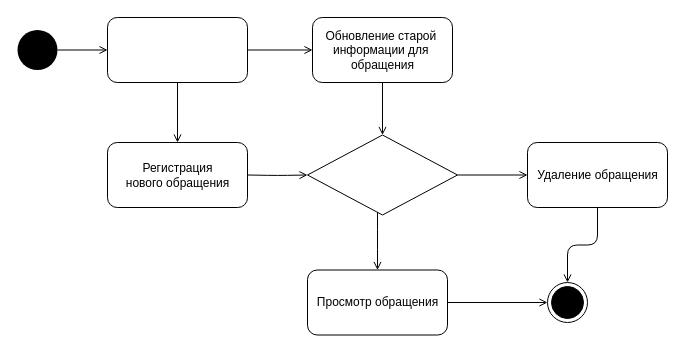
This 685x353 diagram has some shape labels left out. The centre of each missing label's shape, as x and y in pixels:
"Передача обращения в ИС" goes at (x=382, y=174).
"Проверка регистрации обращения" goes at (x=177, y=49).
